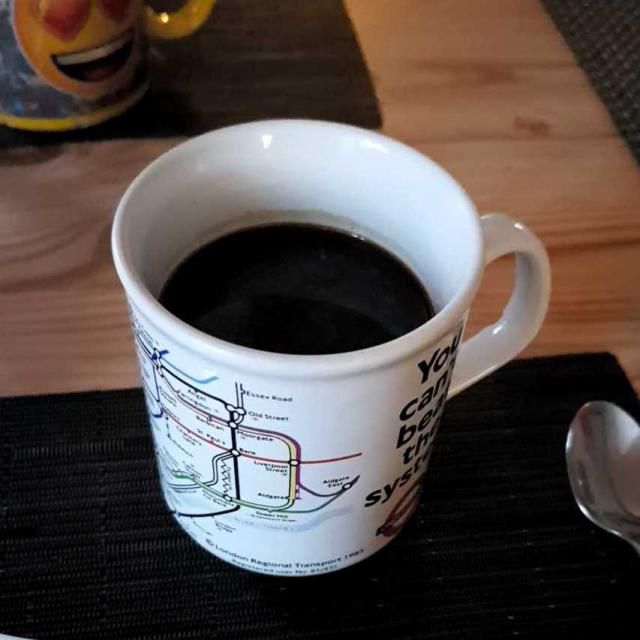coffee-with-caffeine: (160, 221, 433, 351)
